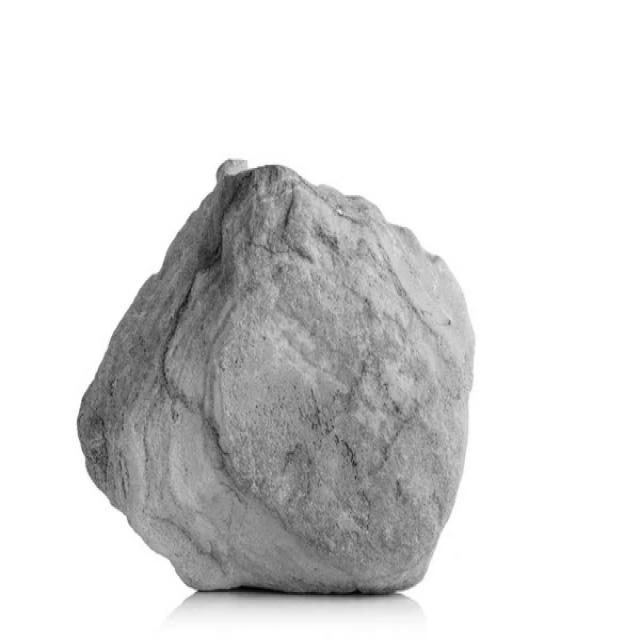Stone: (77, 160, 474, 594)
